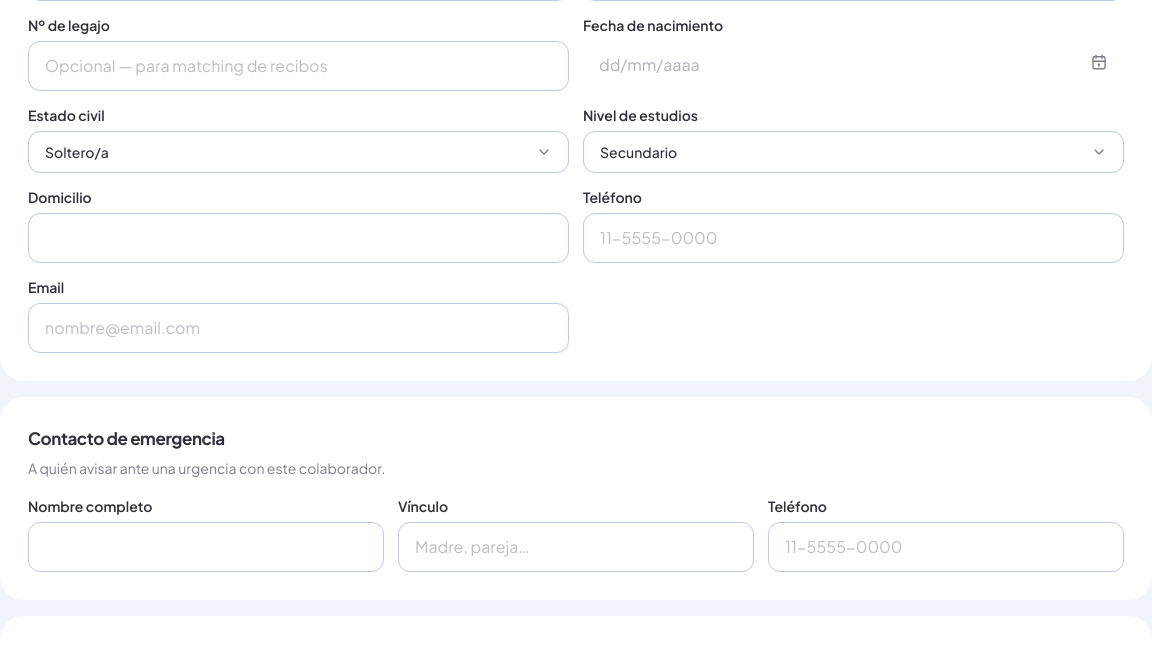
Test: el campo Email dice qué va a pasar según el estado de la cuenta › sin cuenta: avisa que sólo se actualiza el contacto
(page scrolled)
In the field labelled "Email": [298, 328] box [28,303,569,353], type "nuevo@empresa.com"
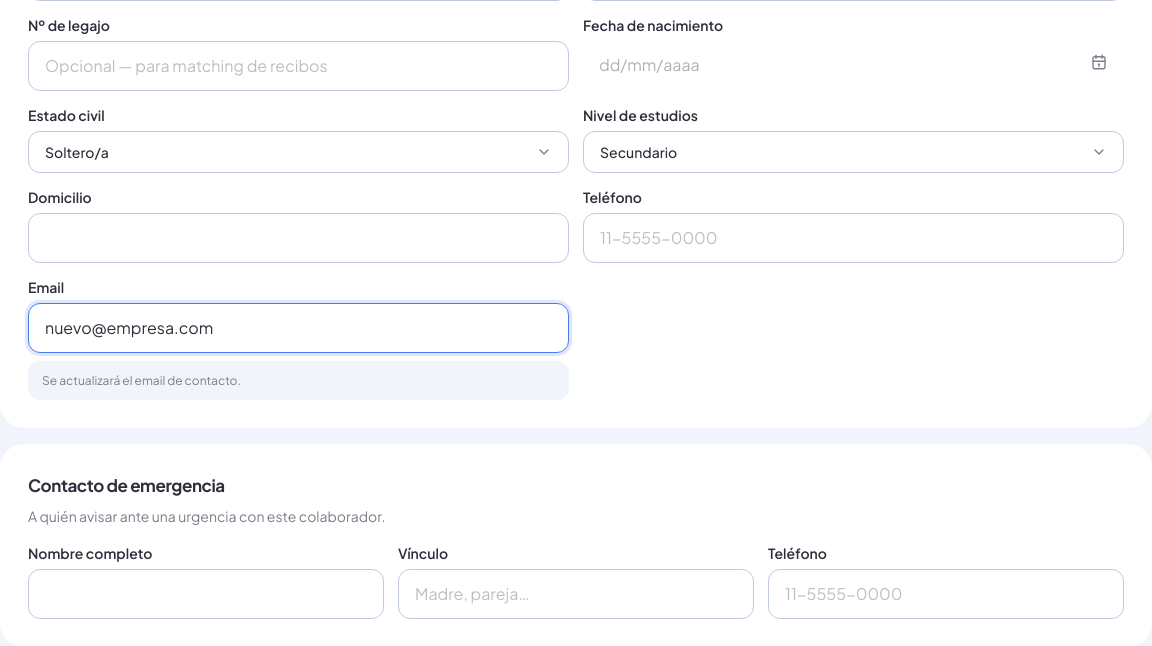
expect the text "Se actualizará el email de contacto." is shown: met, box [28,361,569,400]
